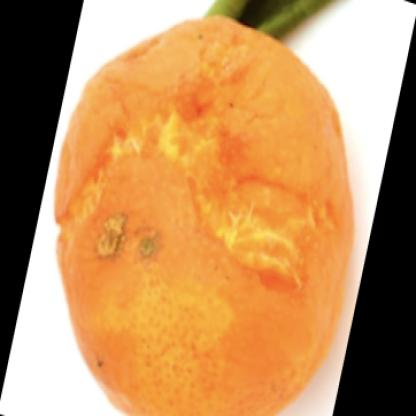rotten: (57, 17, 354, 416)
